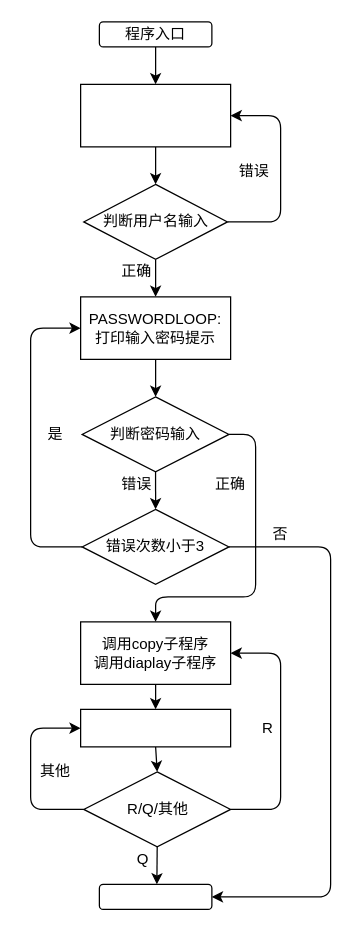
The diagram is 363 pixels wide and 931 high, and some of its shapes have lost their labels. Each missing label, with the box of its shape:
USERLOOP: 打印输入用户名提示: (79, 83, 231, 147)
循环用户输入: (79, 708, 231, 747)
程序结束: (98, 883, 212, 909)
